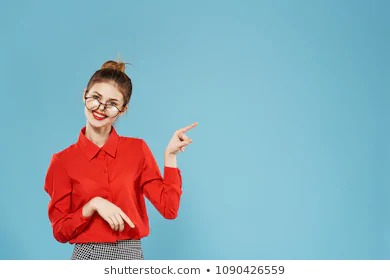C_blouse: (41, 125, 185, 243)
